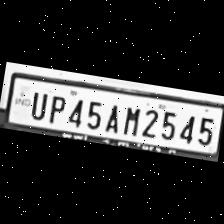2: (138, 105, 160, 139)
4: (175, 110, 198, 144), (64, 93, 86, 127)
5: (156, 106, 180, 142), (81, 96, 106, 130), (194, 113, 218, 148)
A: (99, 100, 123, 134)
M: (118, 101, 142, 137)
P: (43, 90, 67, 124)
U: (24, 86, 49, 120)
